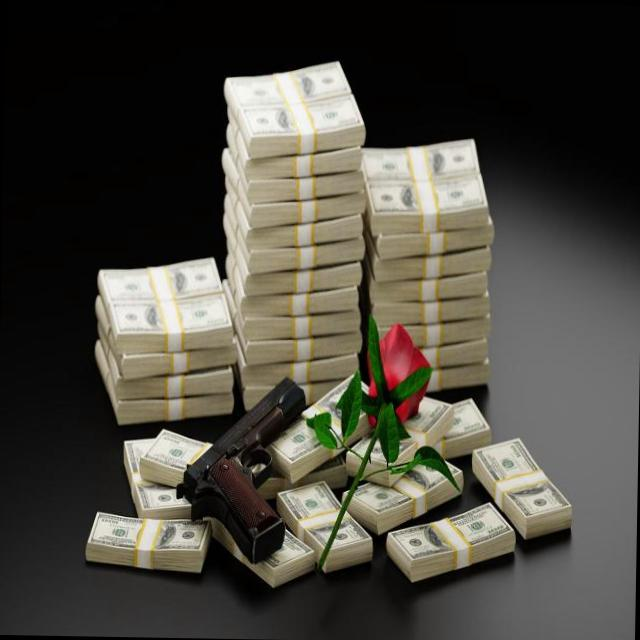Gun: (177, 378, 305, 563)
